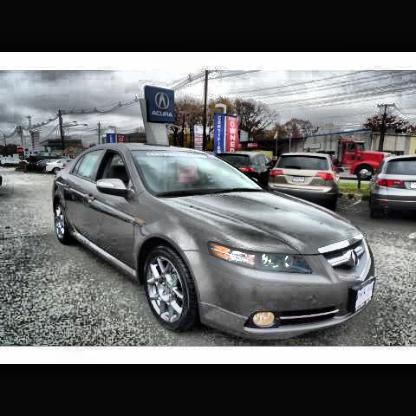Acura TL Type-S 2008: (55, 145, 377, 338)
